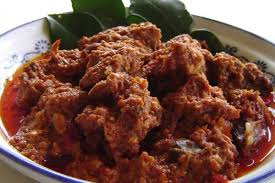rendang: (11, 13, 275, 179)
